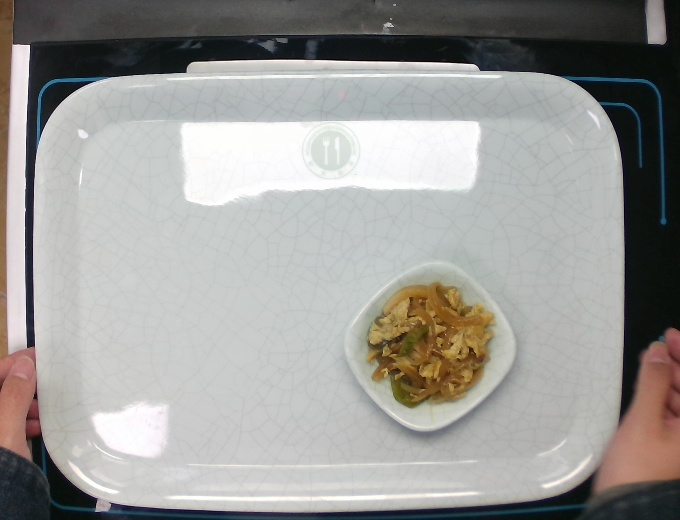JYsf-Si_Fang_Die: (339, 253, 519, 438)
